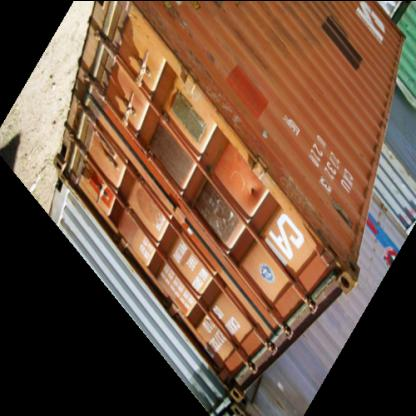Damage: (176, 31, 275, 166), (276, 142, 350, 290)
